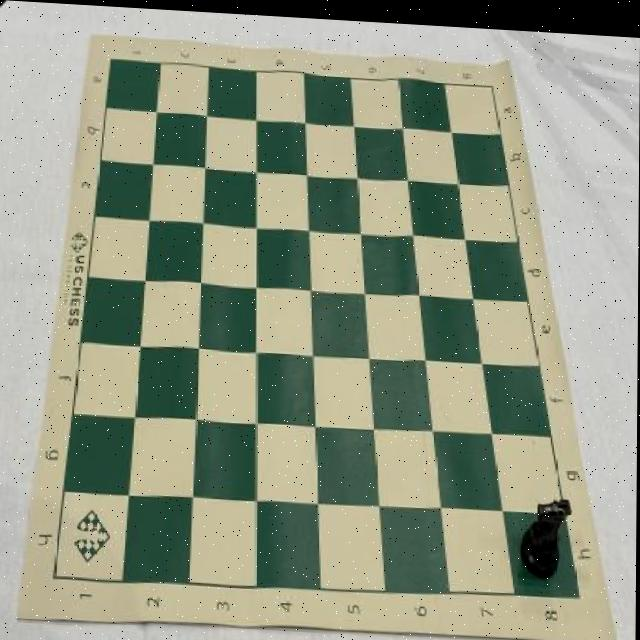black-king: (521, 491, 573, 575)
